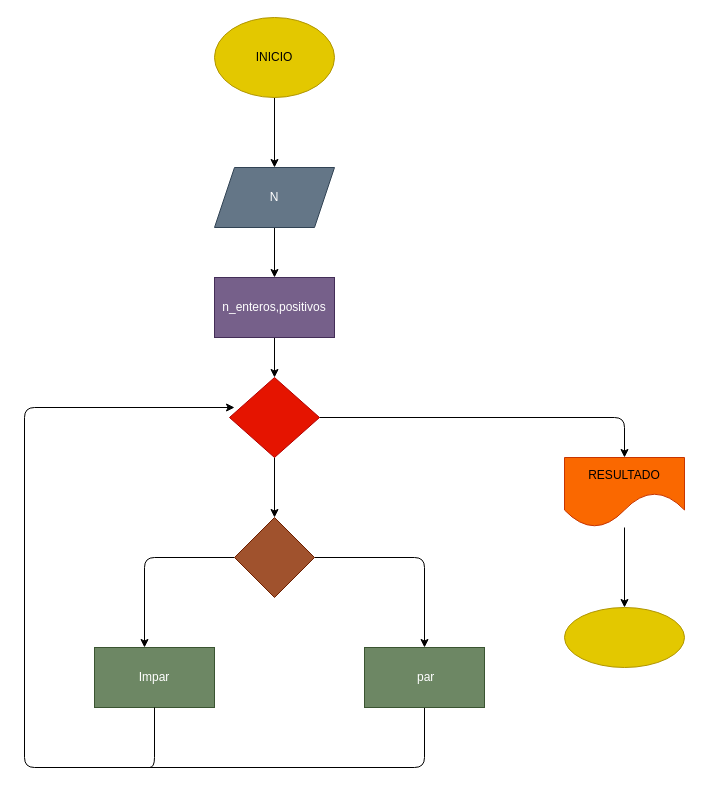
The diagram is 702 pixels wide and 793 high, and some of its shapes have lost their labels. The centre of each missing label's shape, as x and y in pixels:
"(N !=0) y N>0" goes at pixel 274 417.
"FIN" goes at pixel 624 637.
"N%2==0" goes at pixel 274 557.
